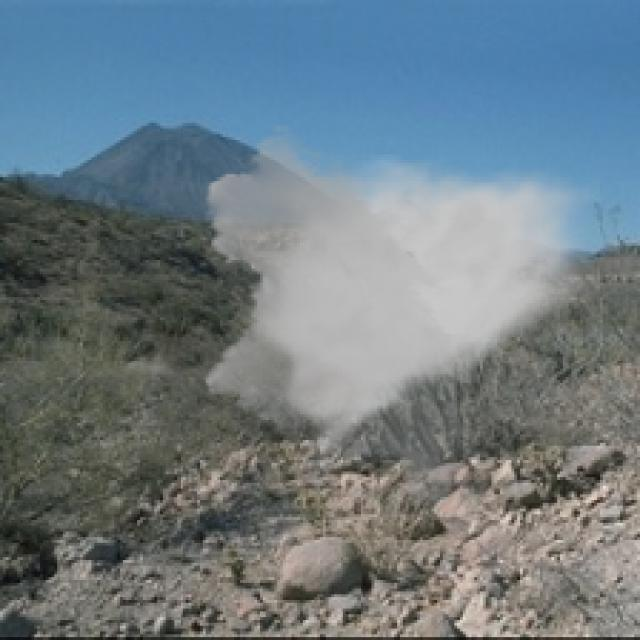Smoke: (195, 122, 600, 518)
